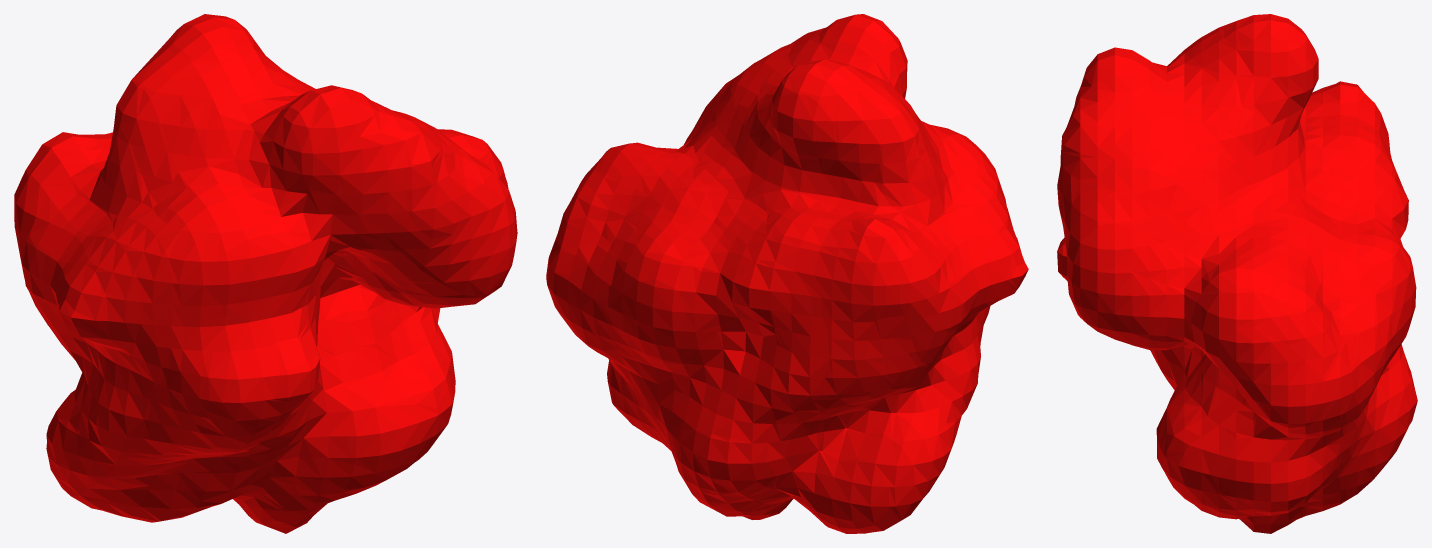
File: yebE_coarse.dae
3 views of the same model, side by side, from view 1: azimuth 30°, elevation 25°; view 2: azimuth 150°, elevation 25°; view 3: azimuth 270°, elevation 25° (orthographic). The views are drawn at different scales.
Visible parts, largest first — view 1: yebE; view 2: yebE; view 3: yebE.
Boxes of the visible parts, bbox=[...] form: yebE: bbox=[14, 14, 517, 533]; yebE: bbox=[546, 14, 1028, 533]; yebE: bbox=[1057, 14, 1417, 533].
Size of the model in its own units: 53.74 by 56.97 by 38.66.
